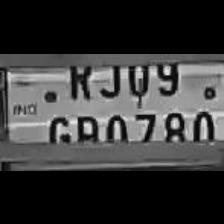0: (122, 56, 152, 100), (100, 106, 127, 146), (188, 104, 214, 144)
7: (128, 106, 156, 144)
8: (159, 104, 187, 144)
9: (151, 54, 181, 96)
B: (72, 108, 98, 144)
G: (42, 108, 76, 148)
J: (95, 55, 123, 99)
R: (62, 54, 94, 100)
